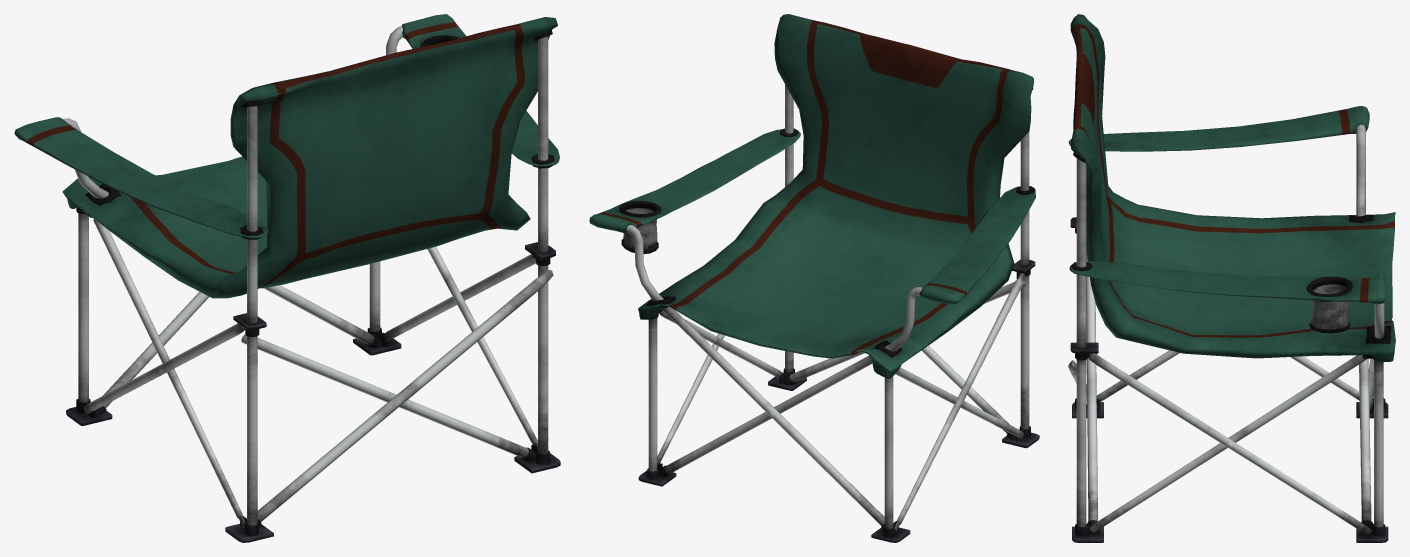
The model's file is camp_chair.gltf.
3 renders of one model, left to right at view 1: azimuth 30°, elevation 25°; view 2: azimuth 150°, elevation 25°; view 3: azimuth 270°, elevation 25°, orthographic. The views are drawn at different scales.
Visible parts, largest first — view 1: pasted__pasted__polySurface5; view 2: pasted__pasted__polySurface5; view 3: pasted__pasted__polySurface5.
Boxes of the visible parts, box(x1,y1,x2,y2) form: pasted__pasted__polySurface5: box(14, 14, 560, 542); pasted__pasted__polySurface5: box(589, 14, 1039, 542); pasted__pasted__polySurface5: box(1068, 14, 1395, 542).
Size of the model in its own units: 0.8882 by 0.8557 by 0.6394.
1 material, 1 textured.
